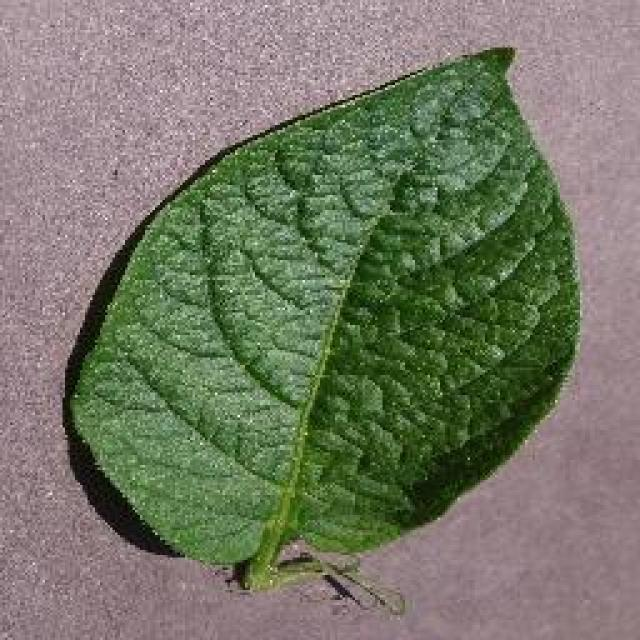Potato: (62, 42, 582, 610)
